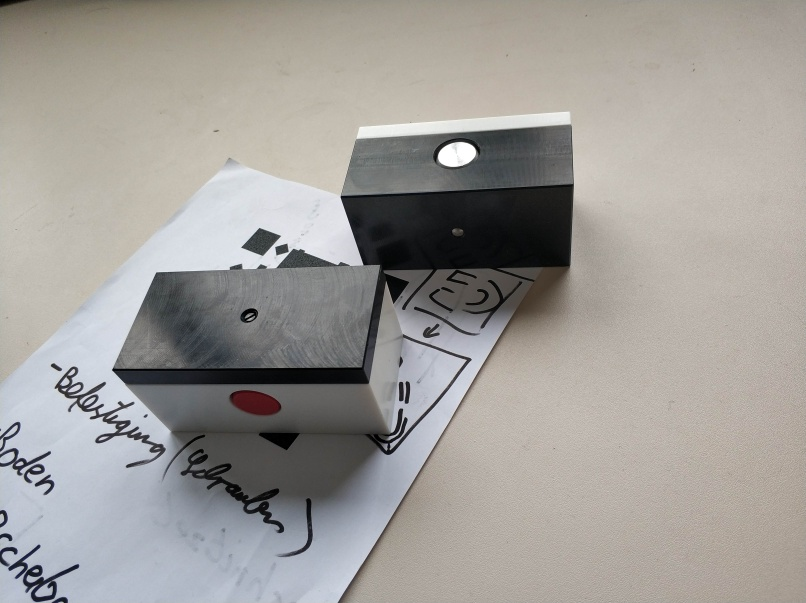black+white+red: (109, 264, 405, 431)
white+black+silver: (340, 108, 575, 276)
